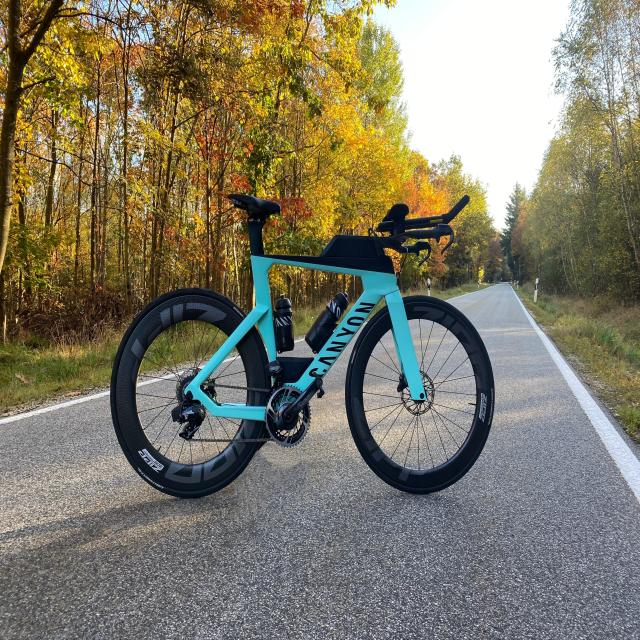TT-bike: (109, 193, 498, 496)
